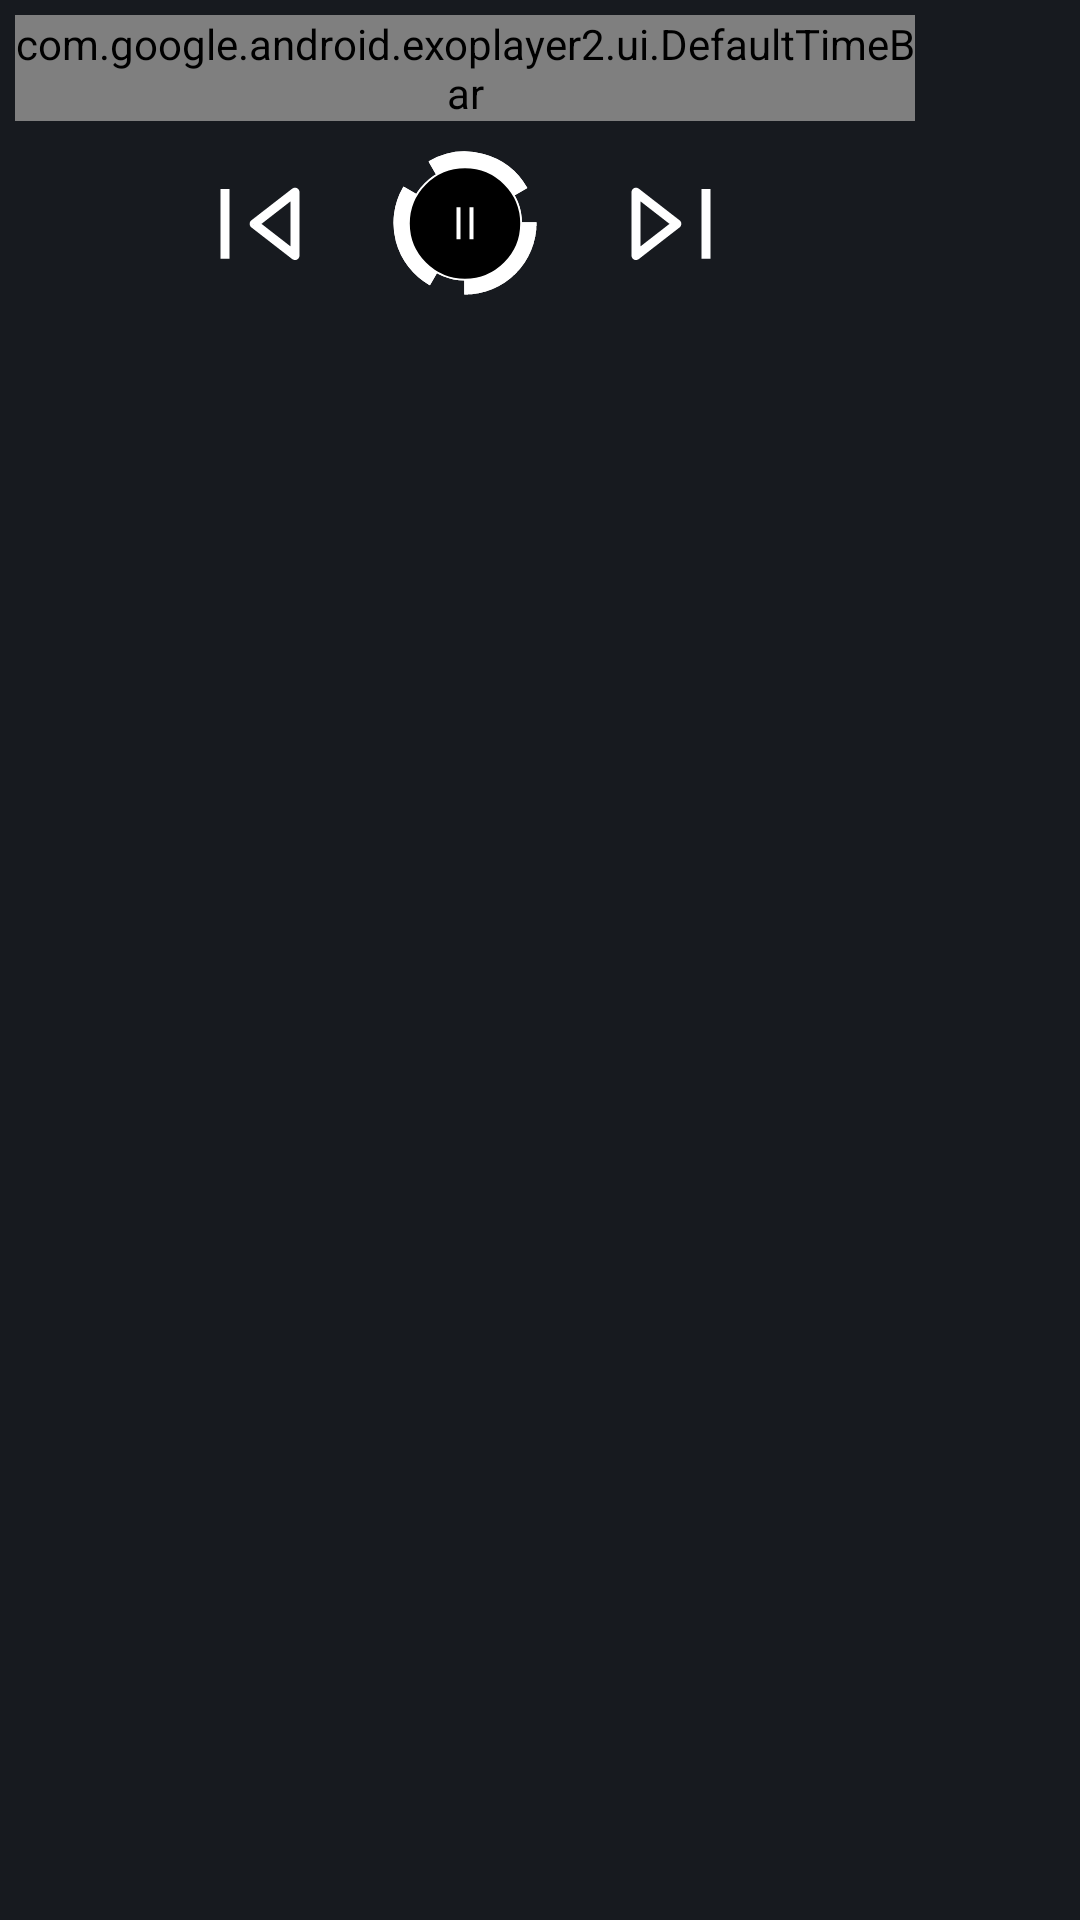

Screen size 1080w x 1920h. Icon name, then its box in pixels as rect(x1, y1, x2, y2):
exo controls next: rect(631, 187, 711, 260)
exo controls previous: rect(220, 187, 300, 260)
